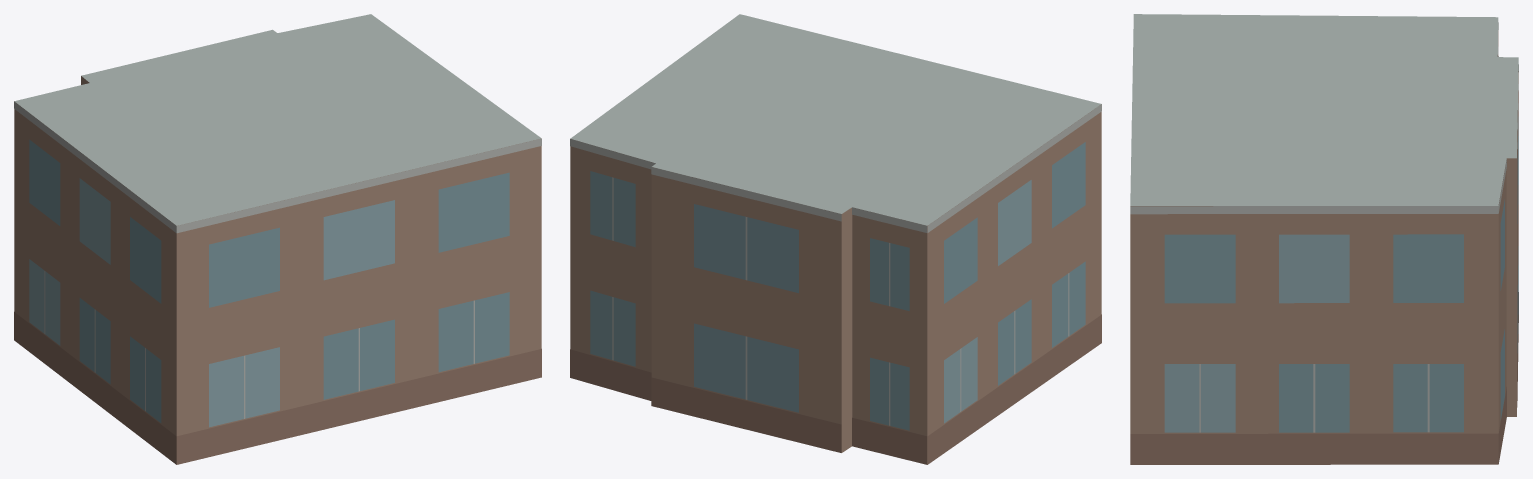
File: survey-upis-32738353.glb
3 renders of one model, left to right at view 1: azimuth 30°, elevation 25°; view 2: azimuth 150°, elevation 25°; view 3: azimuth 270°, elevation 25°, orthographic. The views are drawn at different scales.
Visible parts, largest first — view 1: survey-upis-32738353.tmp; view 2: survey-upis-32738353.tmp; view 3: survey-upis-32738353.tmp.
Boxes of the visible parts, x1,y1,x2,y2 form: survey-upis-32738353.tmp: (14, 14, 541, 464); survey-upis-32738353.tmp: (570, 14, 1101, 464); survey-upis-32738353.tmp: (1130, 14, 1518, 464).
Bounding box in the file's own units: 12.43 × 7.8 × 10.62.
